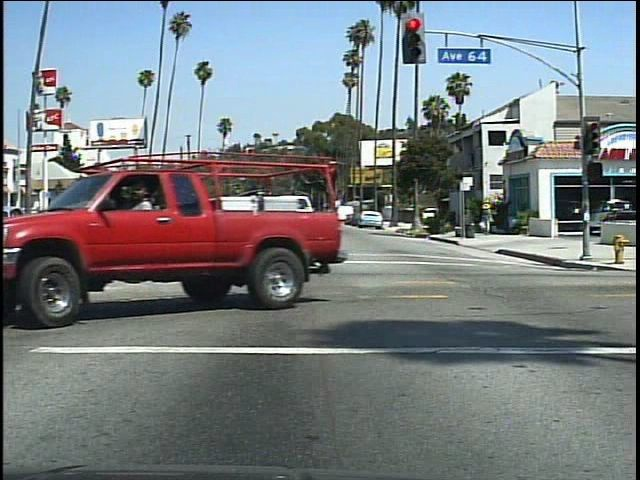person: (132, 175, 174, 307), (478, 199, 501, 238)
